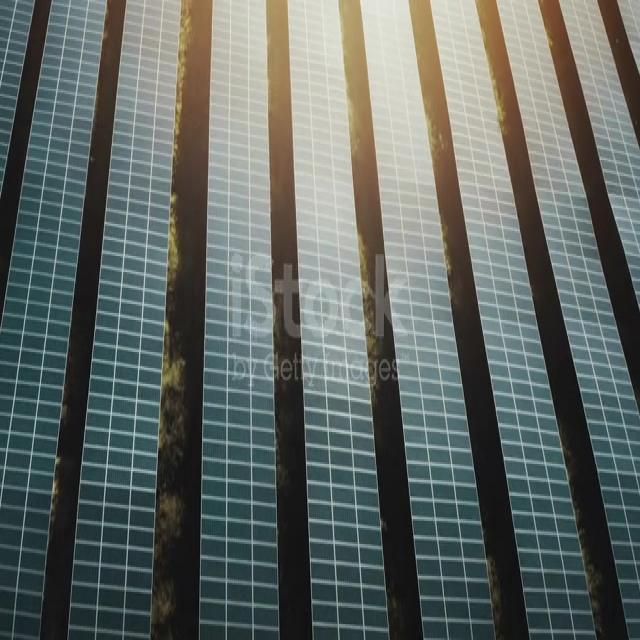Solar-panels: (432, 2, 598, 640), (499, 4, 640, 640), (364, 5, 499, 640), (70, 1, 182, 640), (1, 1, 107, 638), (288, 1, 389, 640), (201, 2, 281, 640), (560, 2, 640, 309), (1, 1, 35, 184)
